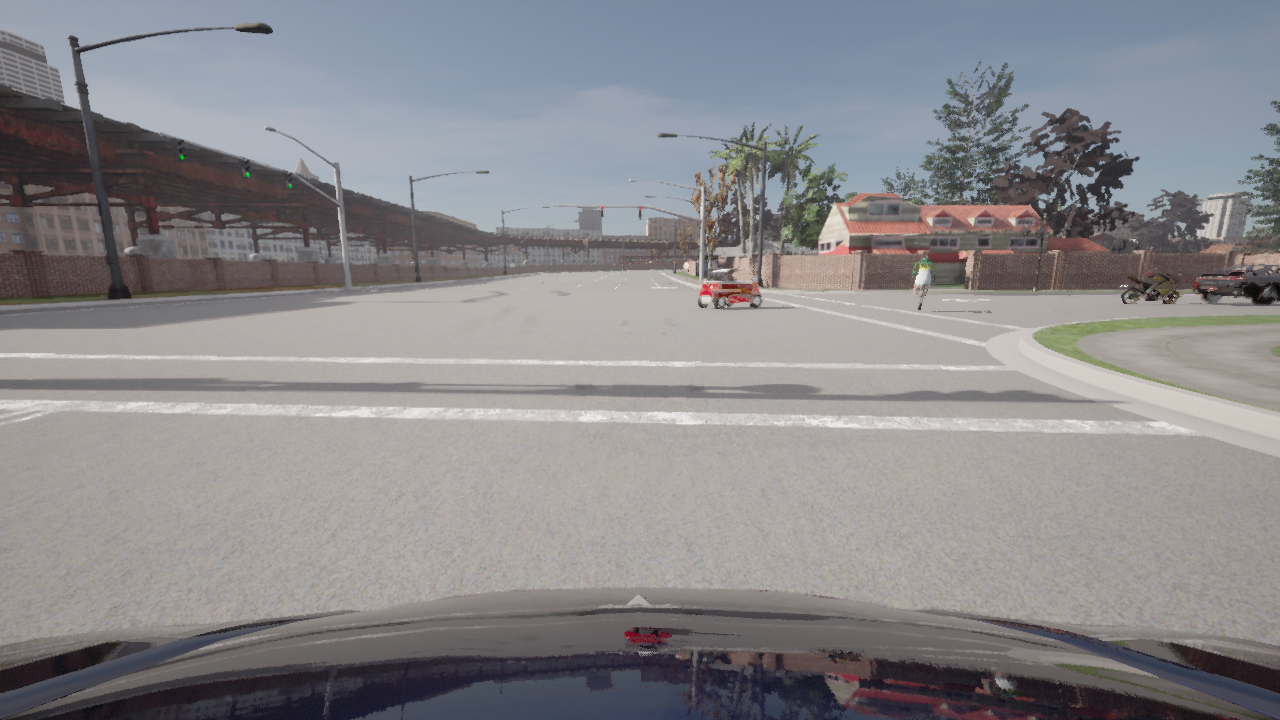cyclist: (0, 588, 1279, 719), (1193, 264, 1279, 305), (697, 268, 762, 310), (1119, 273, 1181, 304)
pedestrian: (910, 253, 937, 310), (683, 268, 689, 280)
